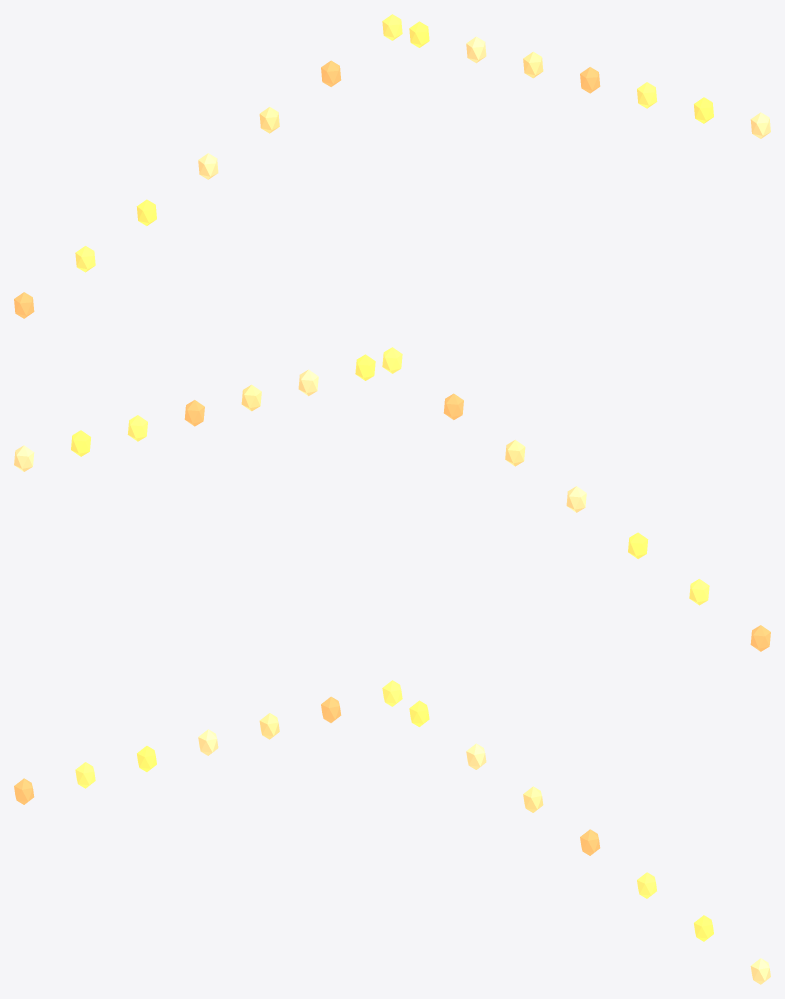
File: Garage_Lights.glb
3 views of the same model, one above another, from view 1: azimuth 30°, elevation 25°; view 2: azimuth 150°, elevation 25°; view 3: azimuth 330°, elevation 25° (orthographic).
Parts seen in each view (by area): view 1: Garage_Lights; view 2: Garage_Lights; view 3: Garage_Lights.
Part boxes in pixels (box(x1,y1,x2,y2)): Garage_Lights: box(14, 14, 770, 318); Garage_Lights: box(14, 347, 770, 651); Garage_Lights: box(14, 680, 770, 984).
Size of the model in its own units: 16.79 by 4.57 by 0.3743.
